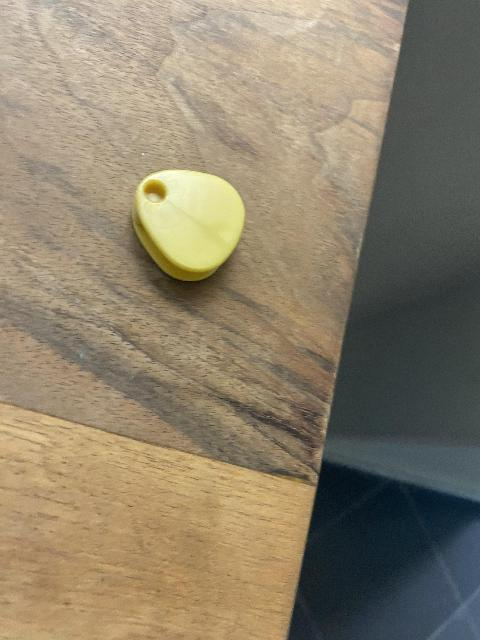Plastik: (127, 175, 241, 284)
